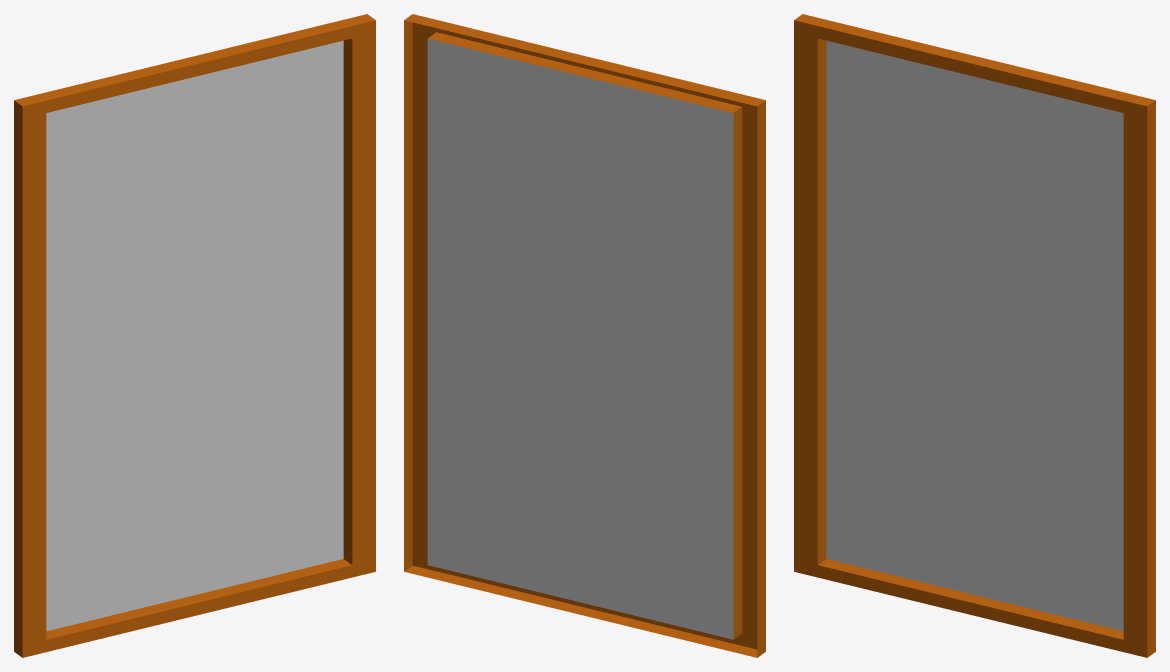
Rendered from PosterB_002.fbx.
3 views of the same model, side by side, from view 1: azimuth 30°, elevation 25°; view 2: azimuth 150°, elevation 25°; view 3: azimuth 330°, elevation 25° (orthographic).
Parts seen in each view (by area): view 1: PosterB_002; view 2: PosterB_002; view 3: PosterB_002.
Part boxes in pixels (box(x1,y1,x2,y2)): PosterB_002: box(14, 14, 375, 657); PosterB_002: box(404, 14, 765, 657); PosterB_002: box(794, 14, 1155, 657).
Size of the model in its own units: 166 by 248 by 7.
